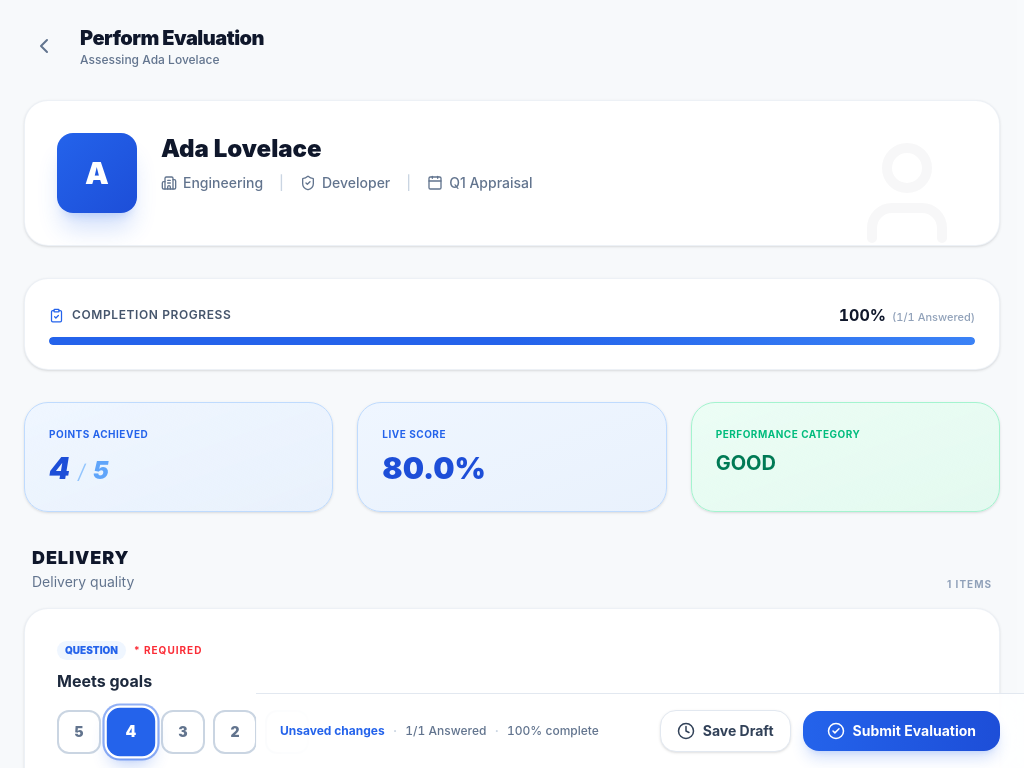
Test case: ManagerEvaluationPage autosave › does not submit when the confirmation modal is cancelled
Click the button "Submit Evaluation".
click(901, 731)  # box [802,711,1000,751]
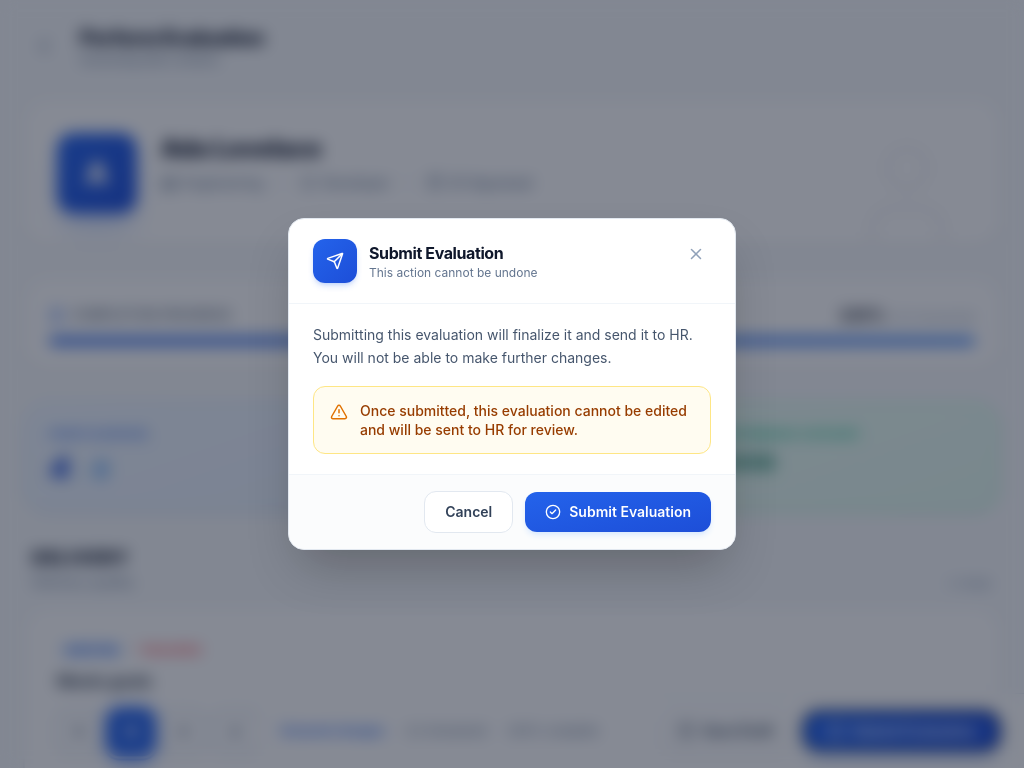
Click the button "Cancel".
click(469, 512)  # box [424,491,513,533]
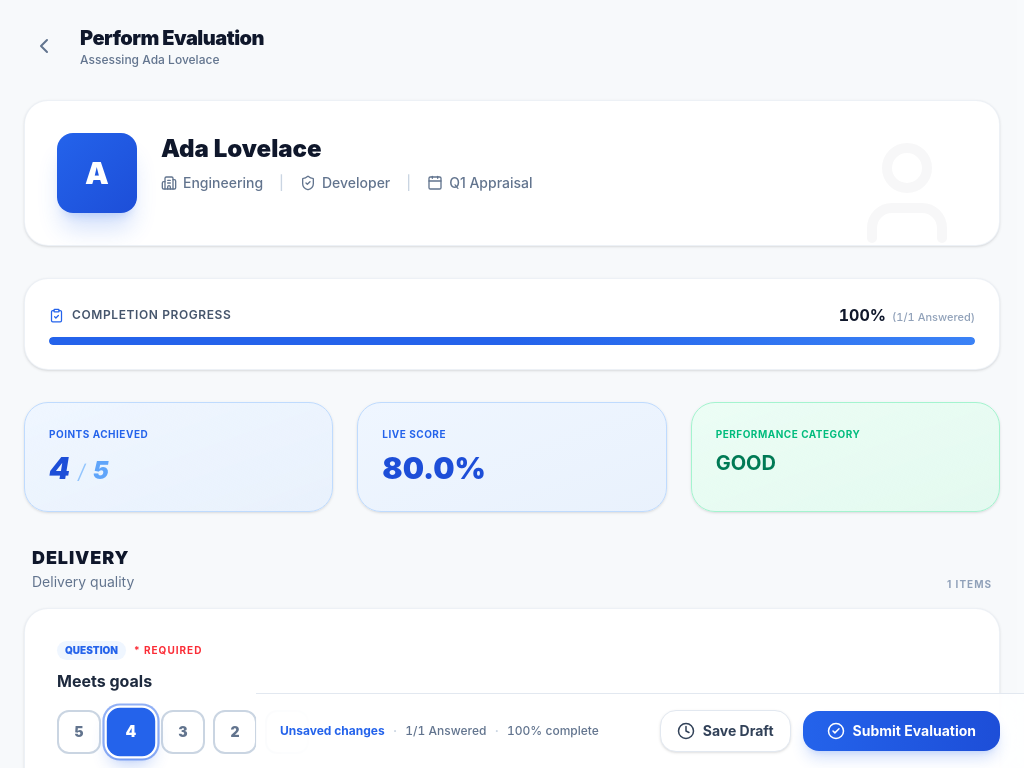
Result: the dialog is gone
